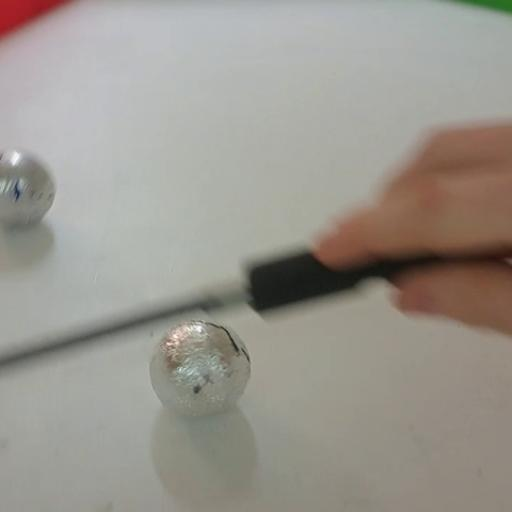alive: (148, 318, 256, 418), (0, 145, 57, 229)
